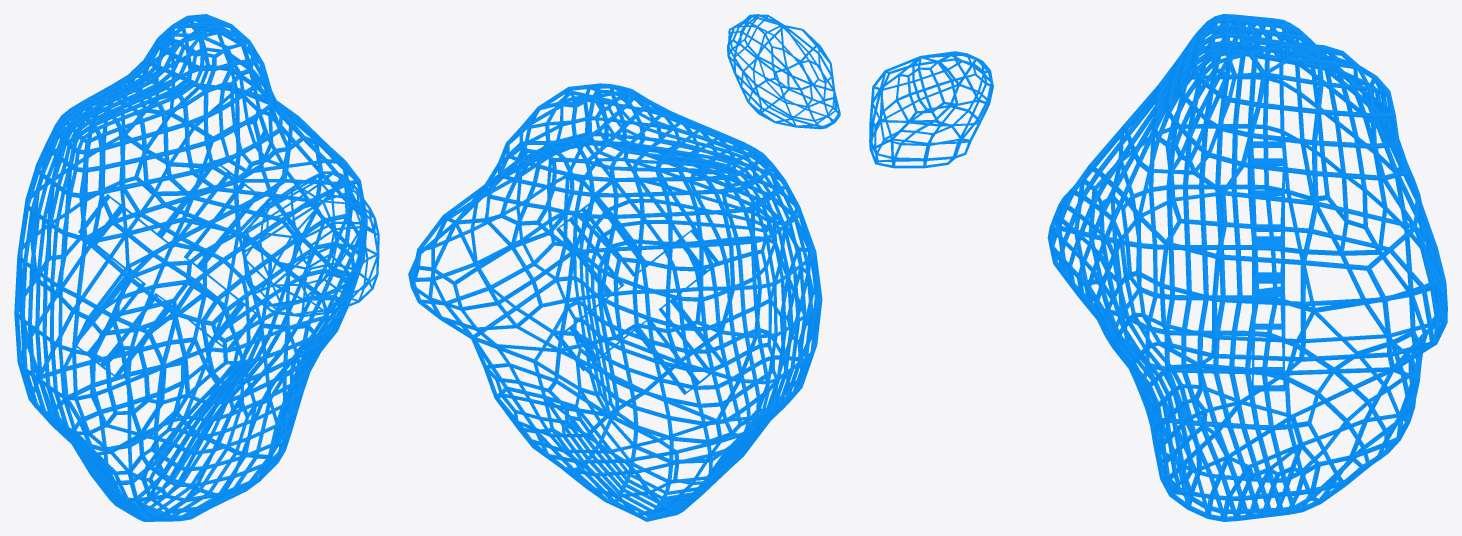
File: Ausstellung2.glb
3 views of the same model, side by side, from view 1: azimuth 30°, elevation 25°; view 2: azimuth 150°, elevation 25°; view 3: azimuth 270°, elevation 25° (orthographic). The views are drawn at different scales.
Visible parts, largest first — view 1: Plane, Plane.001, Plane.002; view 2: Plane, Plane.001, Plane.002; view 3: Plane, Plane.001, Plane.002.
Part boxes in pixels (x1,y1,x2,y2): Plane: (14,14,367,521); Plane.001: (242,171,379,317); Plane.002: (72,160,258,378); Plane: (408,83,822,521); Plane.001: (727,14,840,129); Plane.002: (556,197,724,394); Plane: (1047,14,1447,521); Plane.001: (869,51,993,168); Plane.002: (1252,141,1285,391).
Size of the model in its own units: 0.8648 by 1.13 by 1.18.
